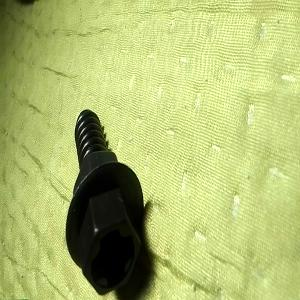parafuso: (66, 108, 145, 295)
